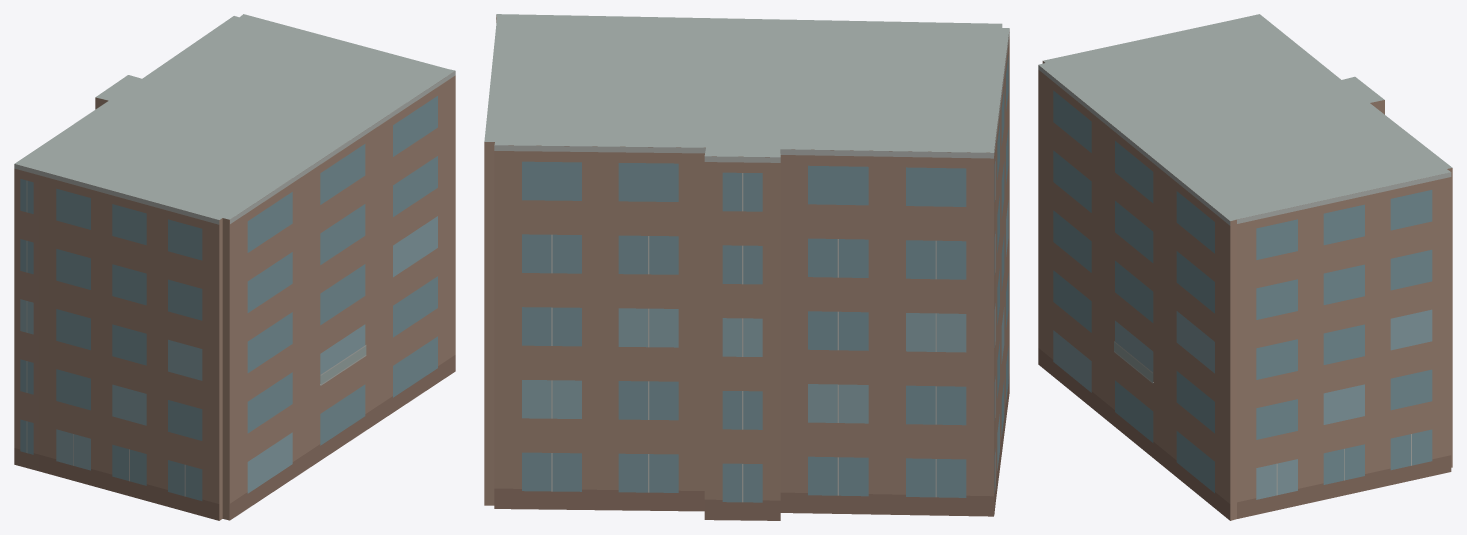
Rendered from survey-upis-32838468.glb.
3 renders of one model, left to right at view 1: azimuth 30°, elevation 25°; view 2: azimuth 150°, elevation 25°; view 3: azimuth 270°, elevation 25°, orthographic. The views are drawn at different scales.
Visible parts, largest first — view 1: survey-upis-32838468.tmp; view 2: survey-upis-32838468.tmp; view 3: survey-upis-32838468.tmp.
Boxes of the visible parts, left/top/right/bottom form: survey-upis-32838468.tmp: left=14, top=14, right=455, bottom=520; survey-upis-32838468.tmp: left=484, top=14, right=1009, bottom=520; survey-upis-32838468.tmp: left=1038, top=14, right=1452, bottom=520.
Size of the model in its own units: 23.15 by 15.6 by 19.57.
